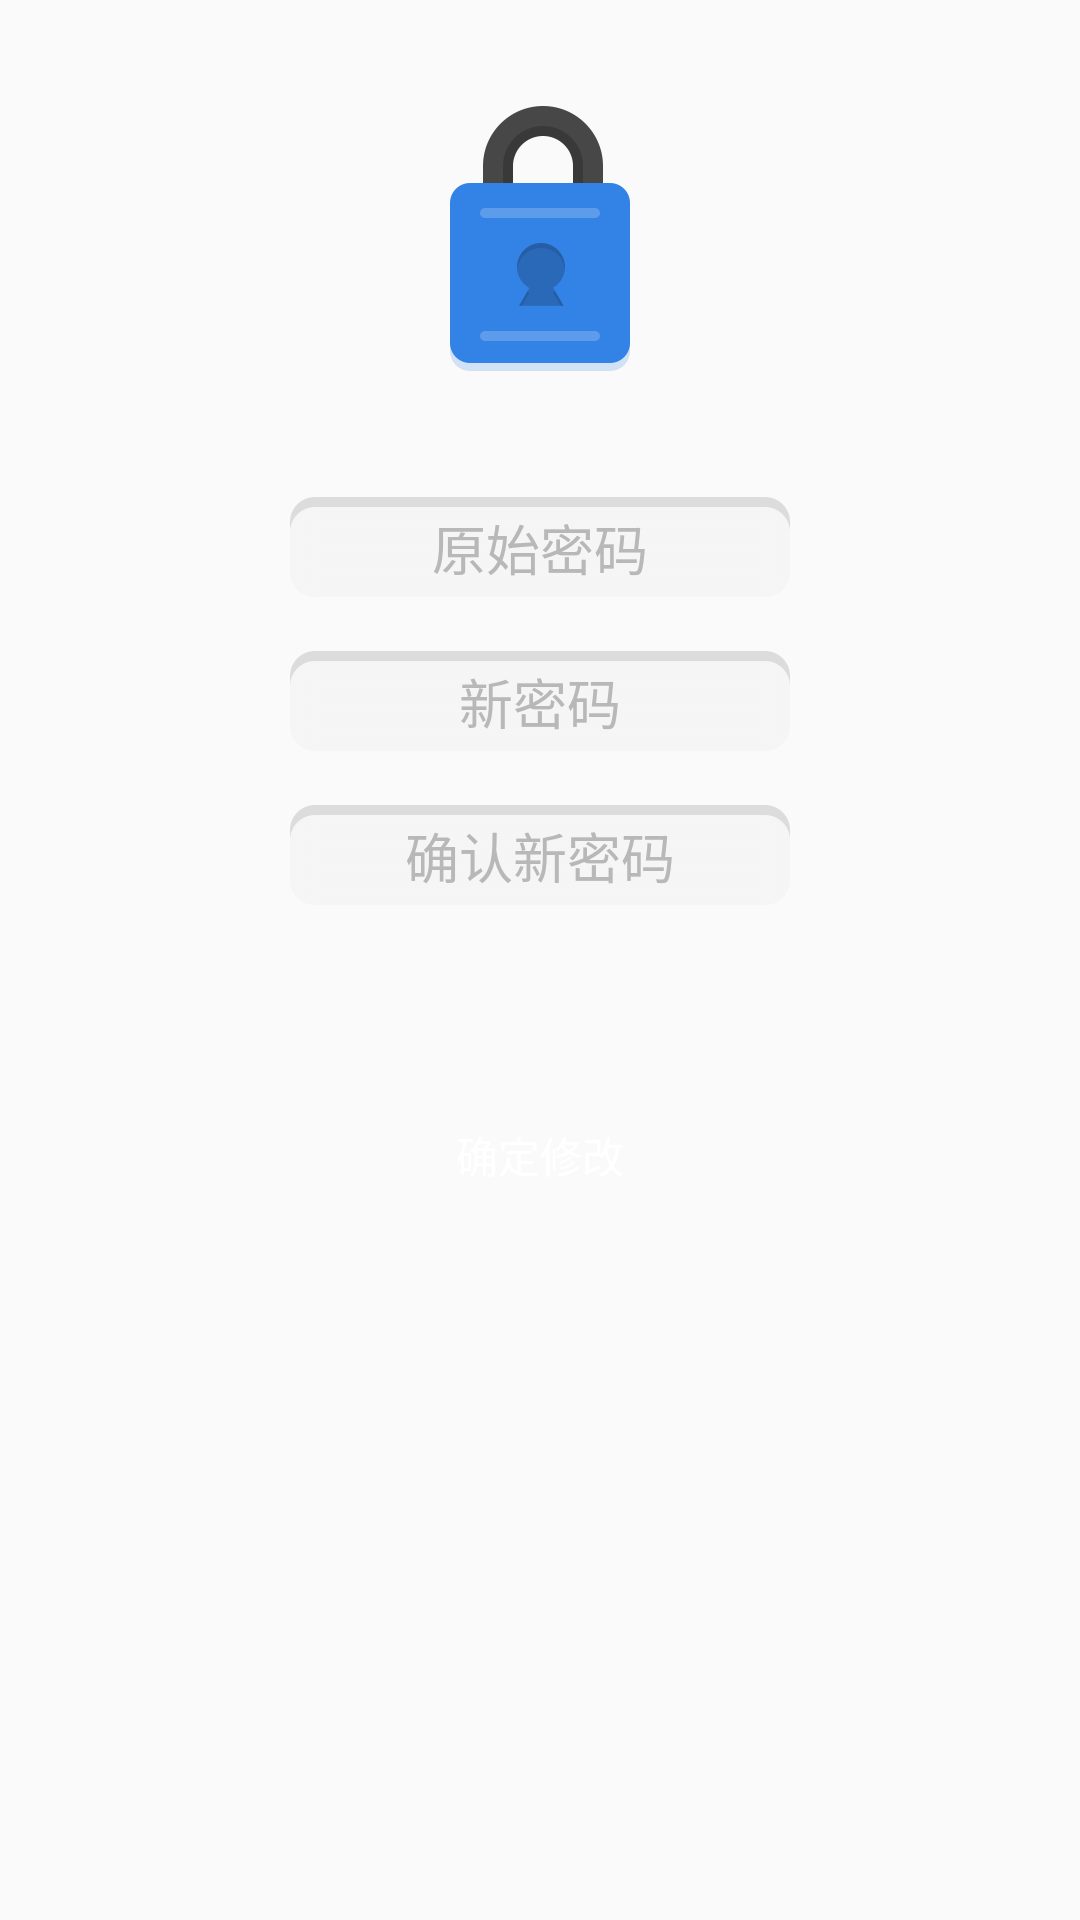

Point at icon controls on the screen. Image size 1080×1920, points as point (x, y).
lock: point (540, 238)
